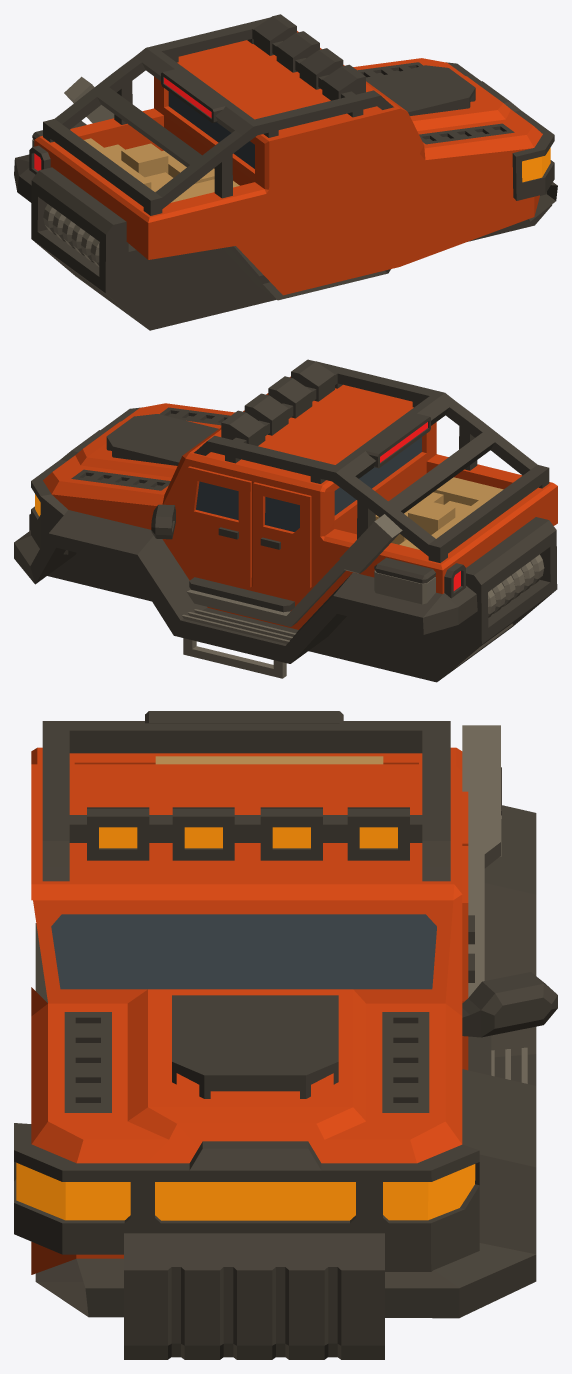
The model's file is chassis.glb.
3 views of the same model, one above another, from view 1: azimuth 30°, elevation 25°; view 2: azimuth 150°, elevation 25°; view 3: azimuth 270°, elevation 25° (orthographic). The views are drawn at different scales.
Visible parts, largest first — view 1: red, black, box, metal, glass, emissiveWhite, emissiveRed; view 2: black, red, metal, glass, box, emissiveRed; view 3: black, red, glass, emissiveWhite, metal, box.
Part boxes in pixels (x1=…): red: x1=34, y1=31, x2=542, y2=295; black: x1=14, y1=14, x2=557, y2=330; box: x1=84, y1=138, x2=239, y2=202; metal: x1=32, y1=76, x2=114, y2=266; glass: x1=168, y1=91, x2=254, y2=168; emissiveWhite: x1=522, y1=148, x2=550, y2=182; emissiveRed: x1=34, y1=77, x2=211, y2=170; black: x1=14, y1=359, x2=557, y2=682; red: x1=43, y1=376, x2=557, y2=629; metal: x1=182, y1=514, x2=544, y2=678; glass: x1=196, y1=437, x2=421, y2=531; box: x1=375, y1=477, x2=503, y2=549; emissiveRed: x1=380, y1=422, x2=460, y2=590; black: x1=14, y1=711, x2=557, y2=1359; red: x1=31, y1=747, x2=468, y2=1274; glass: x1=51, y1=914, x2=436, y2=989; emissiveWhite: x1=16, y1=827, x2=475, y2=1220; metal: x1=462, y1=725, x2=527, y2=1083; box: x1=155, y1=756, x2=383, y2=764.
Bounding box in the file's own units: 2.99 × 1.32 × 1.66.
